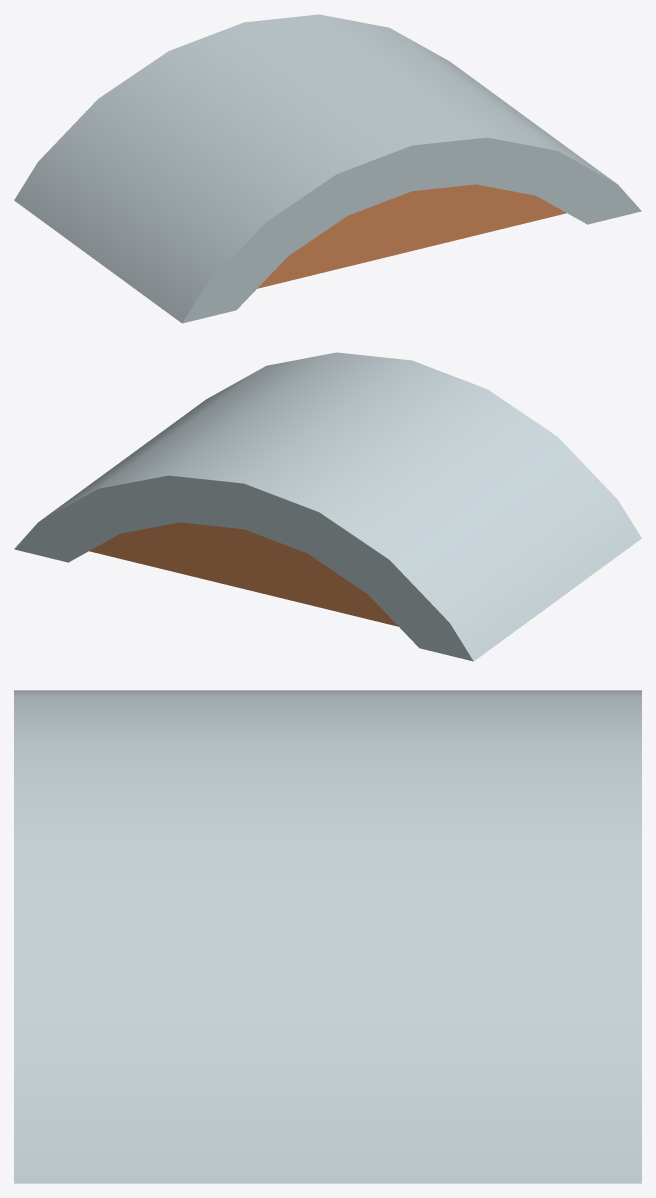
Rendered from blockSnowCurveLow.fbx.
3 renders of one model, top to bottom at view 1: azimuth 30°, elevation 25°; view 2: azimuth 150°, elevation 25°; view 3: azimuth 270°, elevation 25°, orthographic. The views are drawn at different scales.
Parts seen in each view (by area): view 1: blockSnowCurveLow; view 2: blockSnowCurveLow; view 3: blockSnowCurveLow.
Part boxes in pixels (x1,y1,x2,y2): blockSnowCurveLow: (14, 14, 641, 323); blockSnowCurveLow: (14, 352, 641, 661); blockSnowCurveLow: (14, 690, 641, 1183).
Bounding box in the file's own units: 15.79 × 4 × 10.
